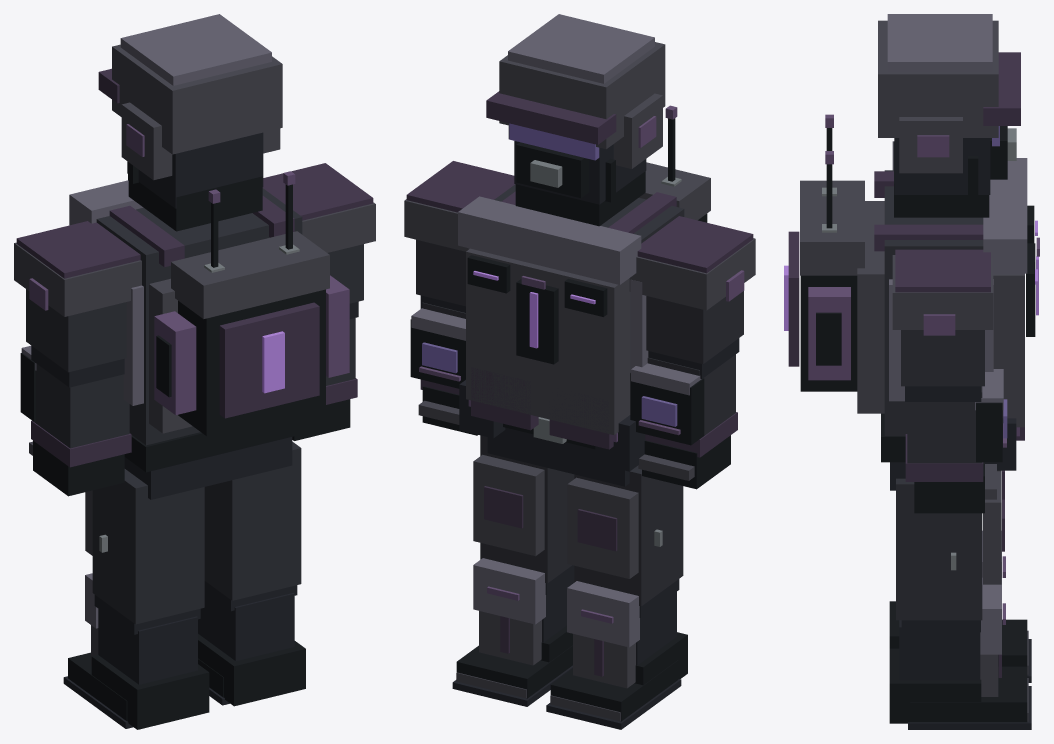
The model's file is suppressor.glb.
The picture shows the model from 3 angles, left to right: view 1: azimuth 30°, elevation 25°; view 2: azimuth 150°, elevation 25°; view 3: azimuth 270°, elevation 25°; orthographic projection. The views are drawn at different scales.
Visible parts, largest first — view 1: Merged_material (×22), Trouser L, Trouser R, Helmet top plate, Torso underlayer, Head underhelmet, Elbow cuff L; view 2: Merged_material (×25), Trouser L, Helmet top plate, Trouser R, Knee cap L, Knee cap R, Helmet front shroud, Head underhelmet, Single dark visor, Forearm module lid L, Forearm module lid R, Torso underlayer (+4 smaller); view 3: Merged_material (×19), Trouser R, Helmet top plate, Torso underlayer, Head underhelmet, Helmet front shroud, Knee cap R, Elbow cuff R, Forearm module lid R.
Part boxes in pixels (x1,y1,x2,y2): Merged_material (×22): (14,44,375,729); Trouser L: (92,469,204,624); Trouser R: (204,441,301,600); Helmet top plate: (120,14,271,85); Torso underlayer: (96,188,302,445); Head underhelmet: (127,132,263,208); Elbow cuff L: (31,346,124,387); Merged_material (×25): (404,42,755,729); Trouser L: (574,465,683,606); Helmet top plate: (508,14,654,83); Trouser R: (480,435,574,583); Knee cap L: (567,581,639,647); Knee cap R: (473,558,545,624); Helmet front shroud: (486,91,616,144); Head underhelmet: (514,141,646,204); Single dark visor: (509,123,599,160); Forearm module lid L: (631,363,701,395); Forearm module lid R: (411,308,465,340); Torso underlayer: (494,184,684,243); Merged_material (×19): (784,20,1039,729); Trouser R: (896,478,982,620); Helmet top plate: (887,14,992,71); Torso underlayer: (884,170,983,435); Head underhelmet: (894,138,990,194); Helmet front shroud: (983,52,1020,125); Knee cap R: (980,577,1001,654); Elbow cuff R: (905,386,981,401); Forearm module lid R: (975,369,1003,410).
Bounding box in the file's own units: 1.02 × 1.98 × 0.707.
